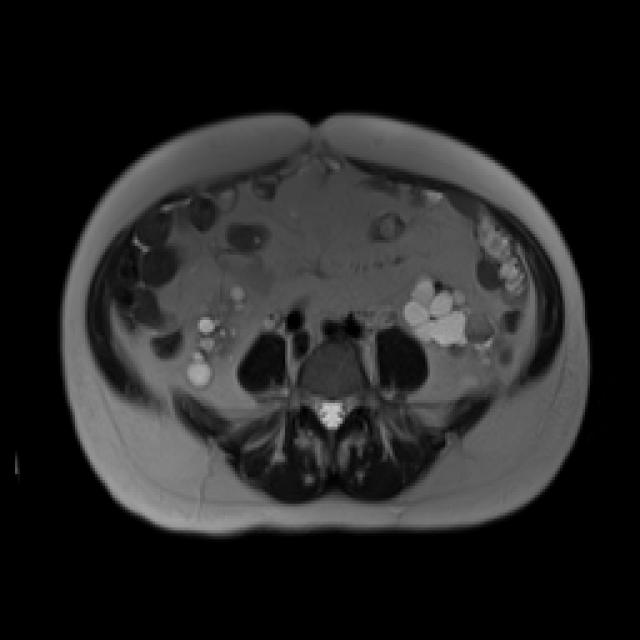sag: (181, 282, 260, 392)
sol: (401, 275, 514, 371)
